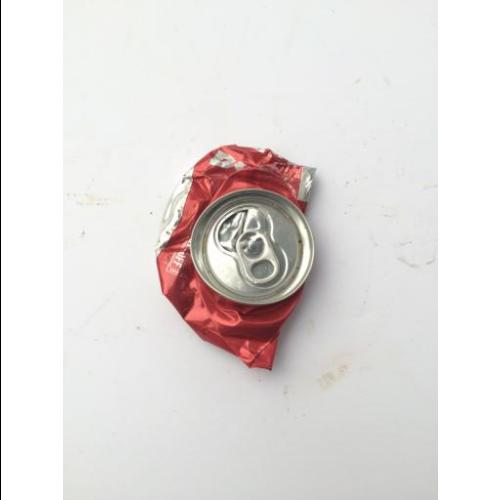metal: (157, 140, 318, 370)
